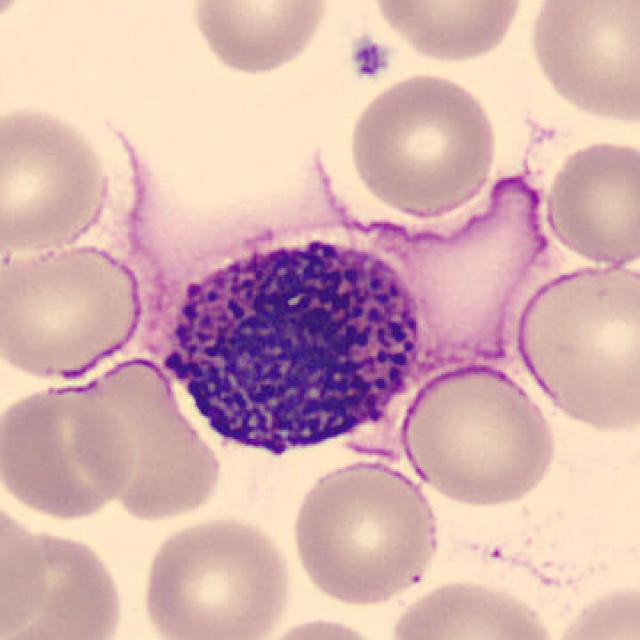Basophil: (142, 210, 443, 474)
Platelets: (345, 32, 393, 84)
RBC: (70, 358, 224, 520), (395, 360, 560, 510), (343, 68, 503, 218), (286, 457, 444, 608), (508, 255, 638, 436), (0, 240, 148, 382), (137, 511, 295, 640), (0, 379, 139, 524), (0, 102, 112, 258), (522, 0, 640, 128), (540, 132, 638, 272), (0, 530, 123, 640), (185, 0, 332, 78), (384, 575, 558, 640), (368, 0, 528, 63), (0, 502, 54, 638), (546, 580, 640, 640), (248, 613, 396, 640), (0, 0, 32, 39)
